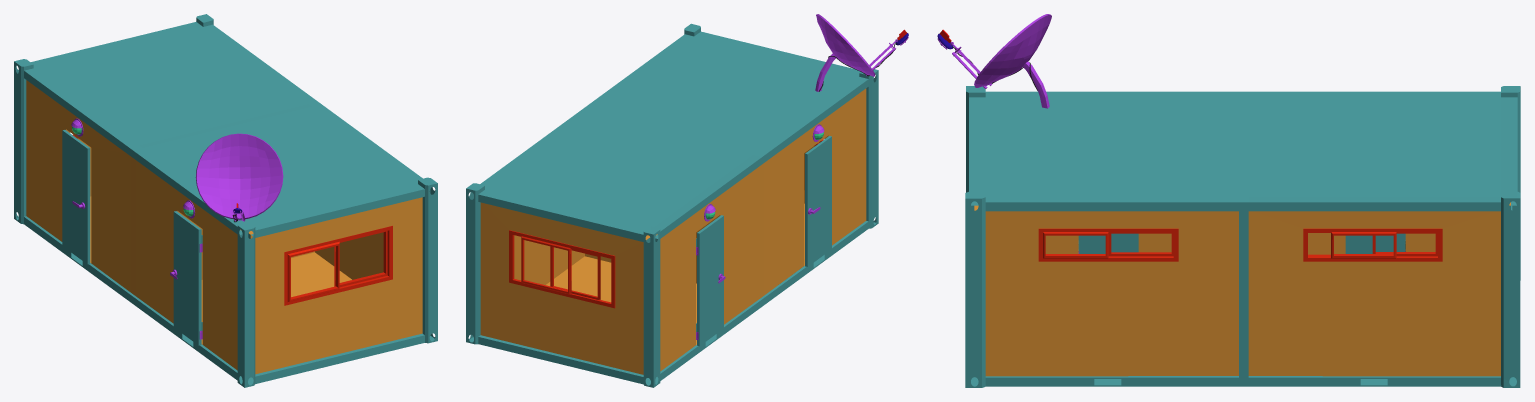
File: baraka_without_handle 1.fbx
3 views of the same model, side by side, from view 1: azimuth 30°, elevation 25°; view 2: azimuth 150°, elevation 25°; view 3: azimuth 270°, elevation 25° (orthographic). The views are drawn at different scales.
Parts seen in each view (by area): view 1: Main_Body, Anthena, Door.001, Door, Main_Body.001, Window_Right_Side_Left, Window_Right_Side_Right; view 2: Main_Body, Door, Door.001, Anthena, Main_Body.004, Window_Left_Side_Left, Window_Left_Side_Right; view 3: Main_Body, Anthena, Main_Body.003, Main_Body.002, Door.001, Door, Window_Left_Back_Side_Left, Window_Right_Back_Side_Left, Window_Left_Back_Side_Right.
Boxes of the visible parts, x1,y1,x2,y2 form: Main_Body: [14, 14, 437, 387]; Anthena: [195, 133, 283, 222]; Door.001: [173, 211, 202, 345]; Door: [62, 130, 90, 264]; Main_Body.001: [284, 225, 392, 305]; Window_Right_Side_Left: [287, 241, 339, 301]; Window_Right_Side_Right: [334, 231, 387, 287]; Main_Body: [466, 23, 878, 387]; Door: [696, 215, 723, 346]; Door.001: [805, 136, 831, 266]; Anthena: [815, 14, 908, 91]; Main_Body.004: [509, 230, 615, 308]; Window_Left_Side_Left: [521, 236, 571, 294]; Window_Left_Side_Right: [550, 246, 600, 299]; Main_Body: [965, 86, 1520, 387]; Anthena: [937, 14, 1051, 108]; Main_Body.003: [1303, 228, 1442, 261]; Main_Body.002: [1038, 228, 1178, 261]; Door.001: [1078, 233, 1138, 253]; Door: [1345, 233, 1405, 253]; Window_Left_Back_Side_Left: [1043, 232, 1108, 258]; Window_Right_Back_Side_Left: [1331, 232, 1396, 258]; Window_Left_Back_Side_Right: [1108, 233, 1173, 256].
Size of the model in its own units: 386 by 390 by 760.
